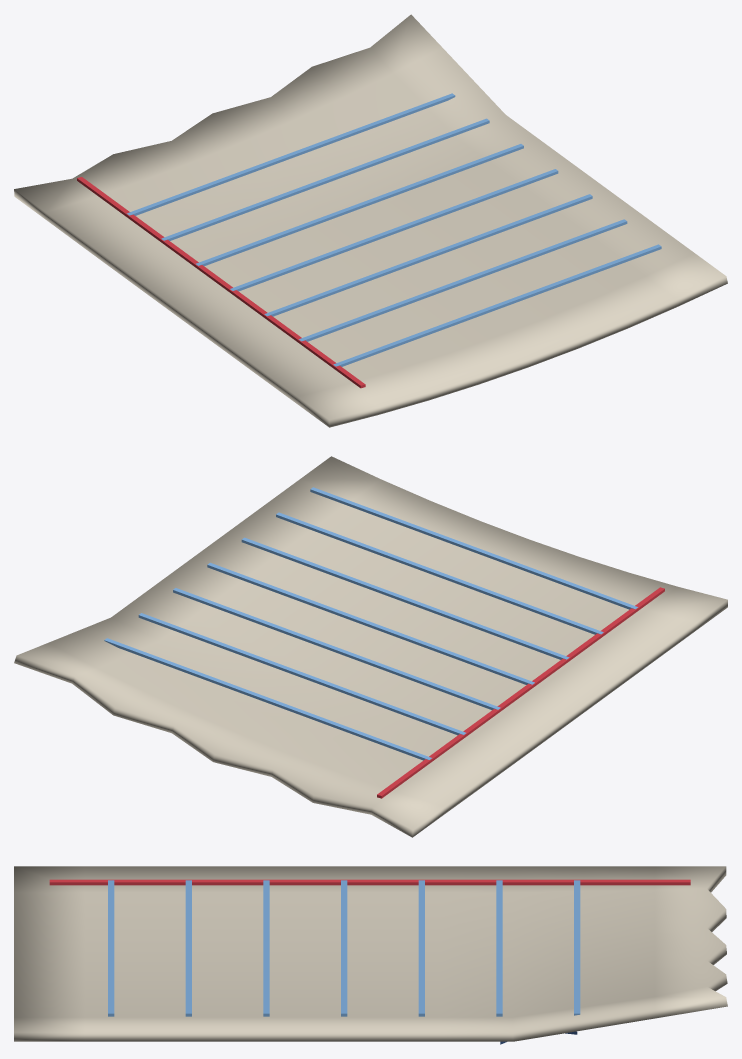
The model's file is pagina-diario.glb.
3 views of the same model, one above another, from view 1: azimuth 30°, elevation 25°; view 2: azimuth 150°, elevation 25°; view 3: azimuth 270°, elevation 25° (orthographic). The views are drawn at different scales.
Parts seen in each view (by area): view 1: pagina-diario; view 2: pagina-diario; view 3: pagina-diario.
Boxes of the visible parts, x1,y1,x2,y2 form: pagina-diario: (14,14,727,427); pagina-diario: (14,456,727,837); pagina-diario: (14,866,727,1044).
Bounding box in the file's own units: 0.1607 × 0.033 × 0.2206.
